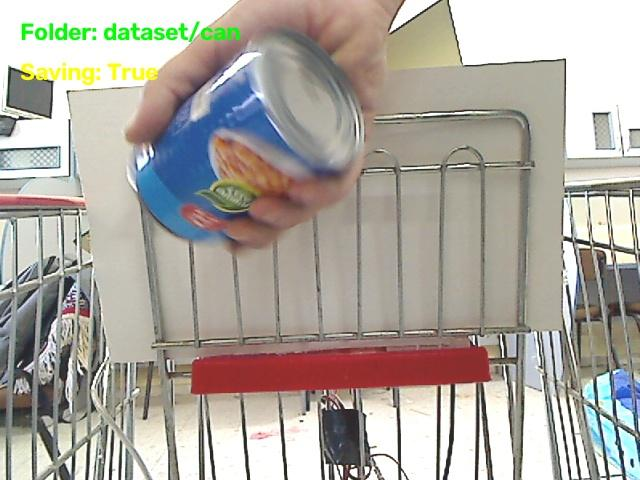can: (128, 30, 363, 240)
